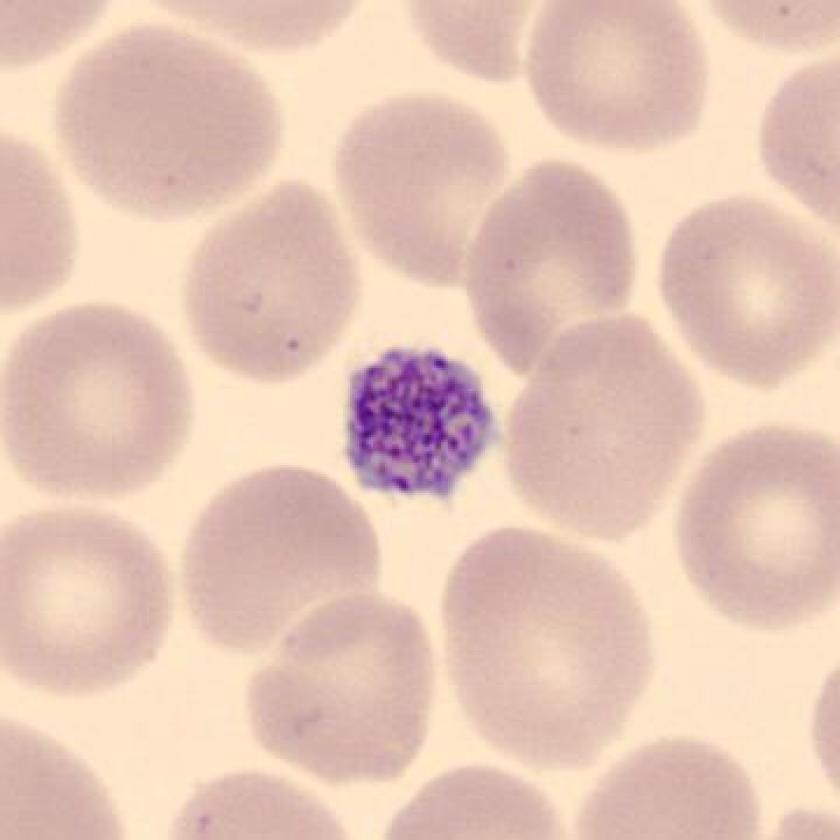platelets: (339, 342, 503, 520)
